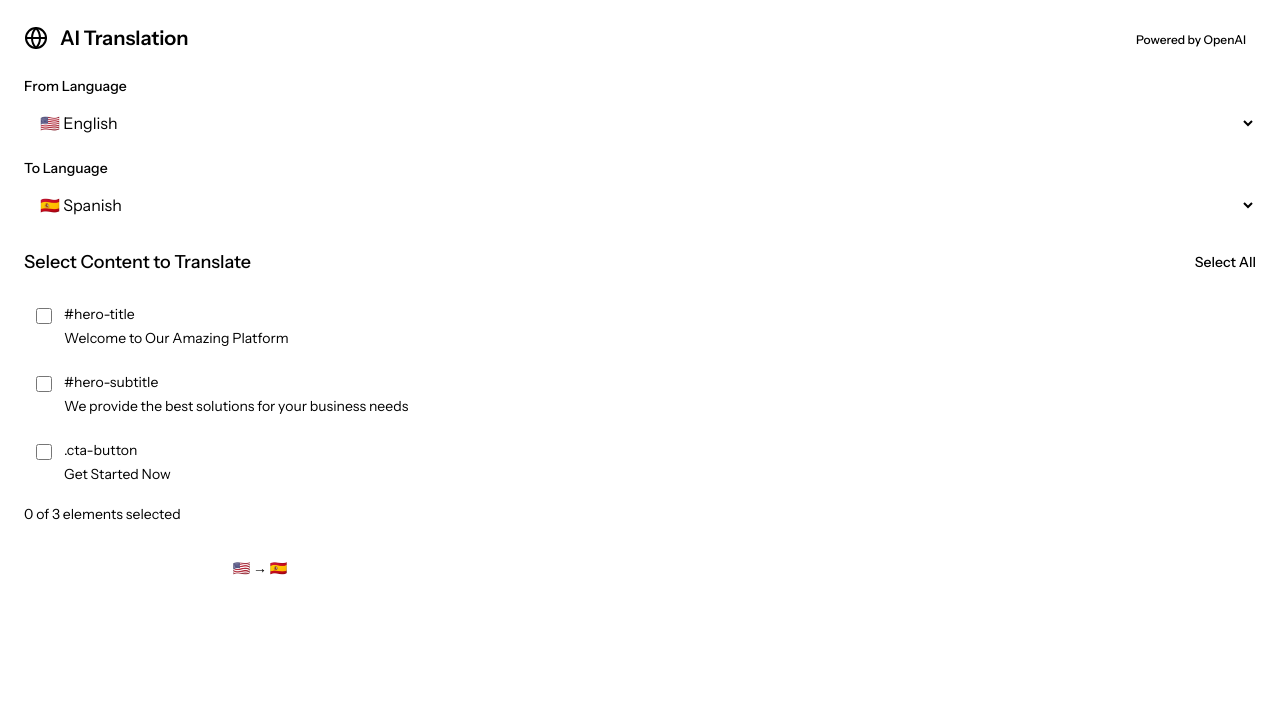
Scenario: Translation Workflow Integration › Translation Dashboard Component Integration › should handle language selection
The image size is (1280, 720).
Note: Change from language to German
Select "🇩🇪 German" in the dropdown showing "🇺🇸 English" below "From Language" at (640, 123), box [24,104,1256,142]
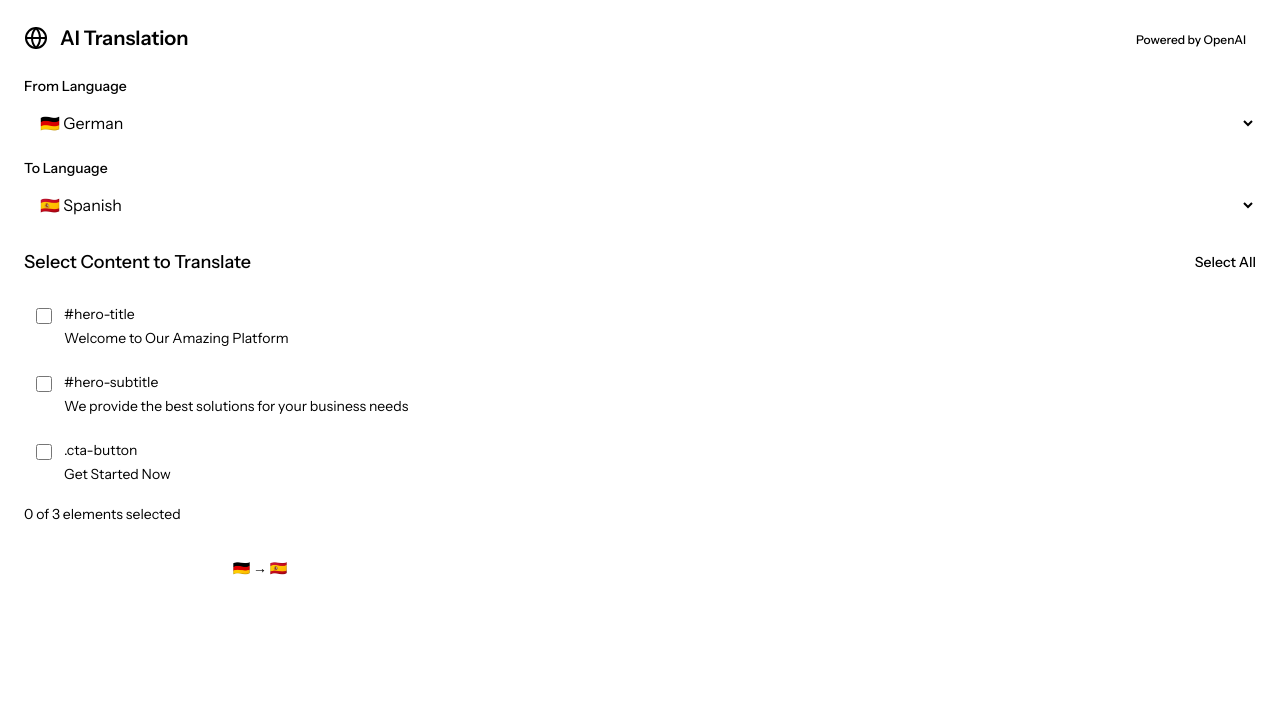
Note: Change to language to French
Select "🇫🇷 French" in the dropdown showing "🇪🇸 Spanish" below "To Language" at (640, 205), box [24,186,1256,224]
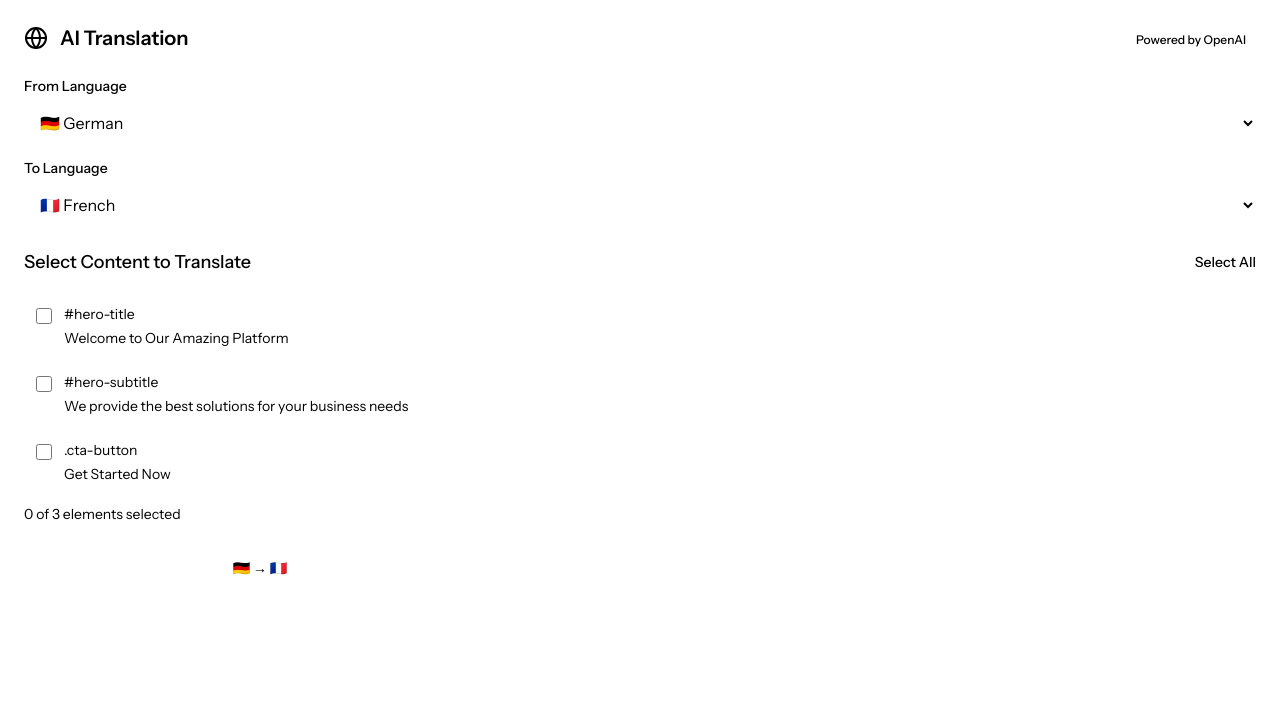
Expected: the text "🇩🇪 → 🇫🇷" is shown, [233,558,287,578]
